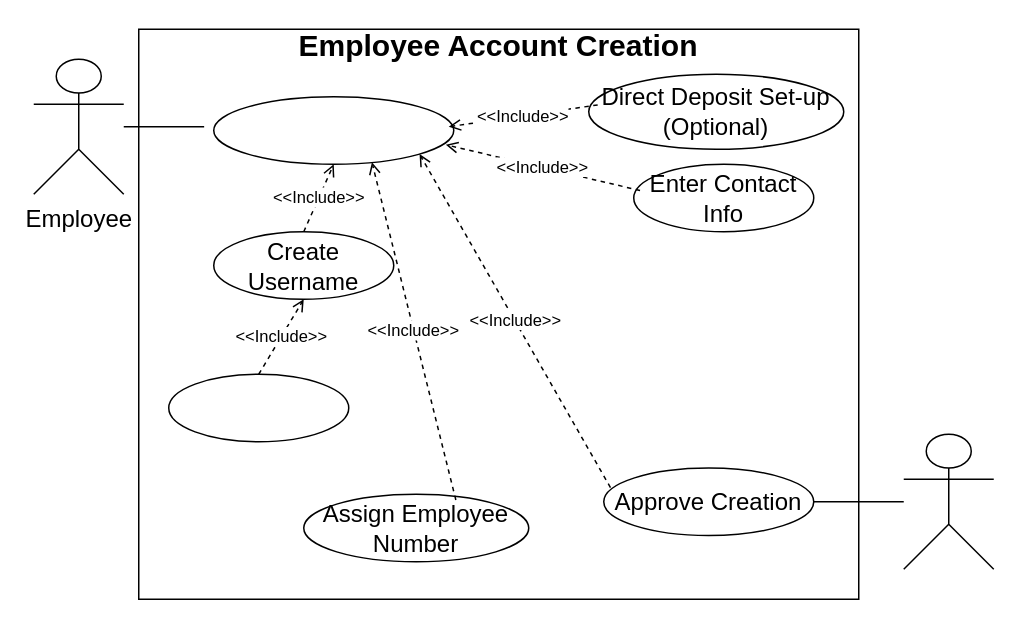
Image size: 1022x633. Some labels were removed from this diagram. The shapes that lost their labels are listed below. From the top down, each one's box as (x1, y1, x2, y2) in pixels, then its label:
(212, 95, 454, 164): Enter Personal Info
(167, 373, 349, 442): Create Password
(902, 433, 994, 569): Manager
